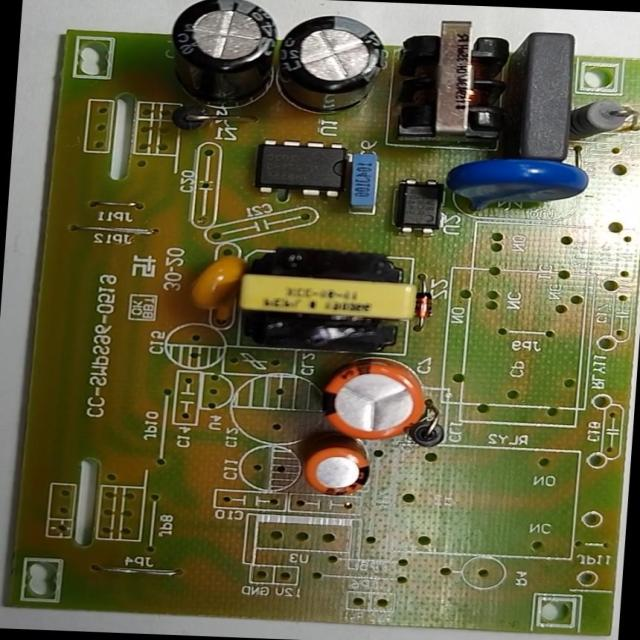Cap1: (302, 352, 444, 451)
Cap2: (288, 430, 378, 504)
Cap3: (261, 9, 390, 124)
Cap4: (158, 0, 288, 128)
MOSFET: (244, 139, 356, 204)
Mov: (434, 148, 596, 219)
Resistor: (558, 90, 640, 149)
Transformer: (221, 242, 422, 352), (389, 15, 516, 148)
